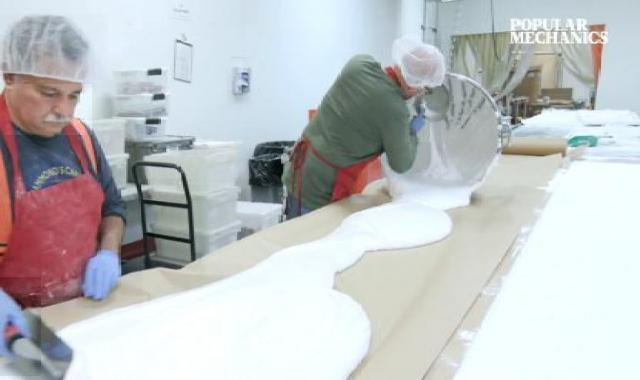apron: (76, 232, 143, 308), (0, 278, 41, 377), (406, 104, 435, 142)
gloves: (0, 14, 108, 80), (394, 39, 451, 94)
no_hairnet: (7, 85, 93, 136)
